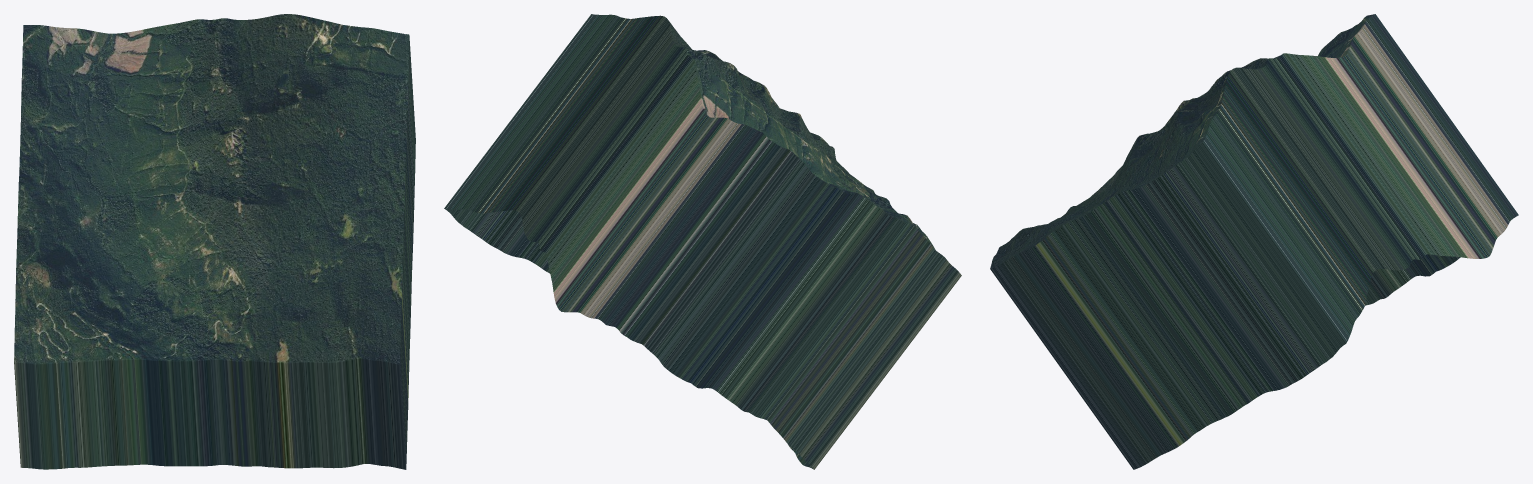
The picture shows the model from 3 angles, left to right: view 1: azimuth 30°, elevation 25°; view 2: azimuth 150°, elevation 25°; view 3: azimuth 270°, elevation 25°; orthographic projection. The views are drawn at different scales.
Bounding box in the file's own units: 6133 × 5122 × 6422.
1 material, 1 textured.
